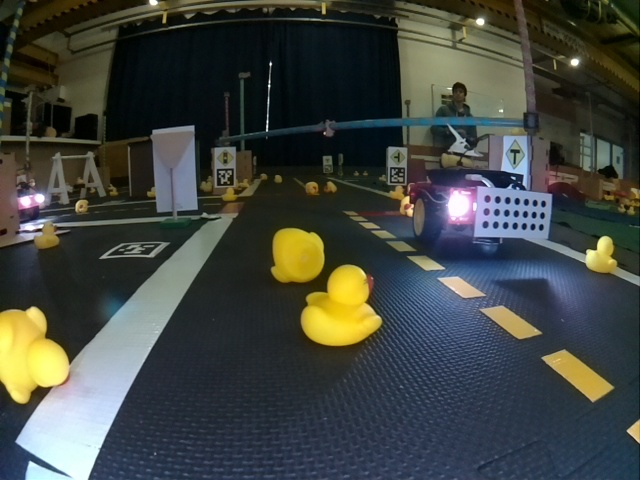Duckie: (300, 266, 381, 344), (0, 309, 68, 399), (272, 228, 324, 279), (588, 238, 613, 274), (35, 223, 57, 248), (399, 196, 414, 216), (306, 182, 318, 194), (76, 200, 88, 211), (391, 186, 403, 197), (225, 188, 235, 199), (324, 181, 333, 191), (274, 174, 282, 183)
Duckiebot: (413, 167, 552, 244), (17, 181, 44, 219)
Intersection sign: (505, 140, 526, 167), (391, 149, 406, 166)
QR code: (101, 243, 168, 258), (216, 169, 235, 187), (389, 167, 405, 183)
Signal sign: (214, 149, 235, 167)
